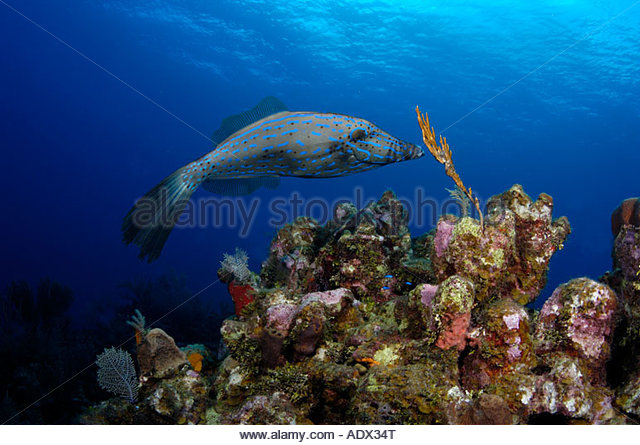Aluterus_scriptus: (114, 91, 425, 254)
